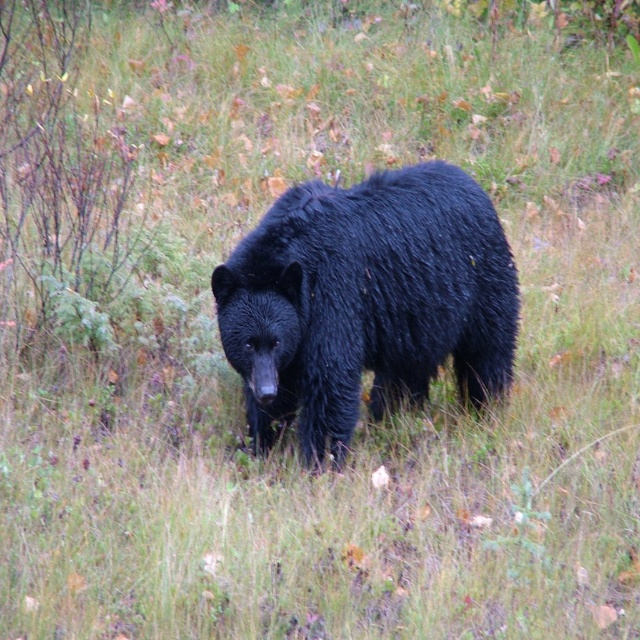Bear: (210, 159, 523, 472)
